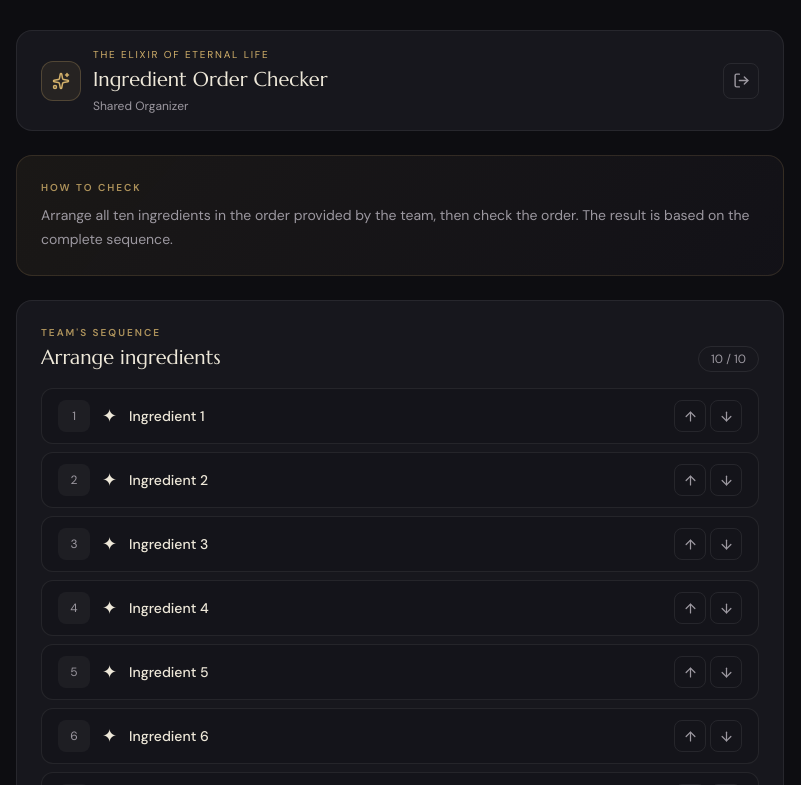
ingredient order checker › reorders with accessible controls and resets for the next check
The image size is (801, 785).
What coordinates should you click on to do the following:
click the button named "Move Ingredient 2 up"
I would click on:
 (690, 480)
Its box is [674, 464, 706, 496].
(page scrolled)
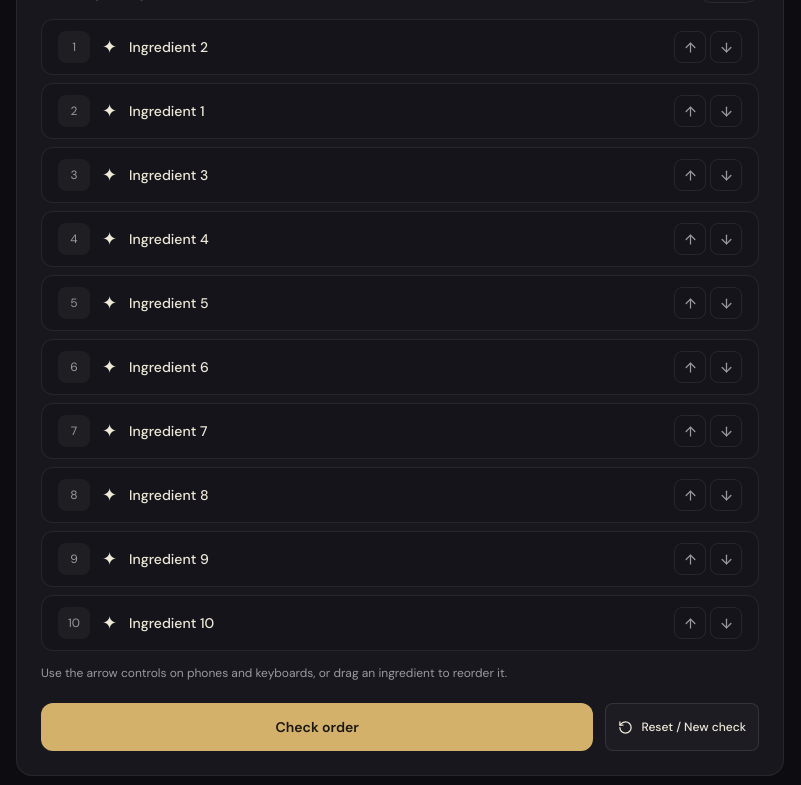
Expected: the list item "1 ✦ Ingredient 2" is shown, [41, 19, 759, 75]
What coordinates should you click on to do the following:
click the button "Check order"
I would click on:
 (317, 727)
Its box is [41, 703, 594, 751].
(page scrolled)
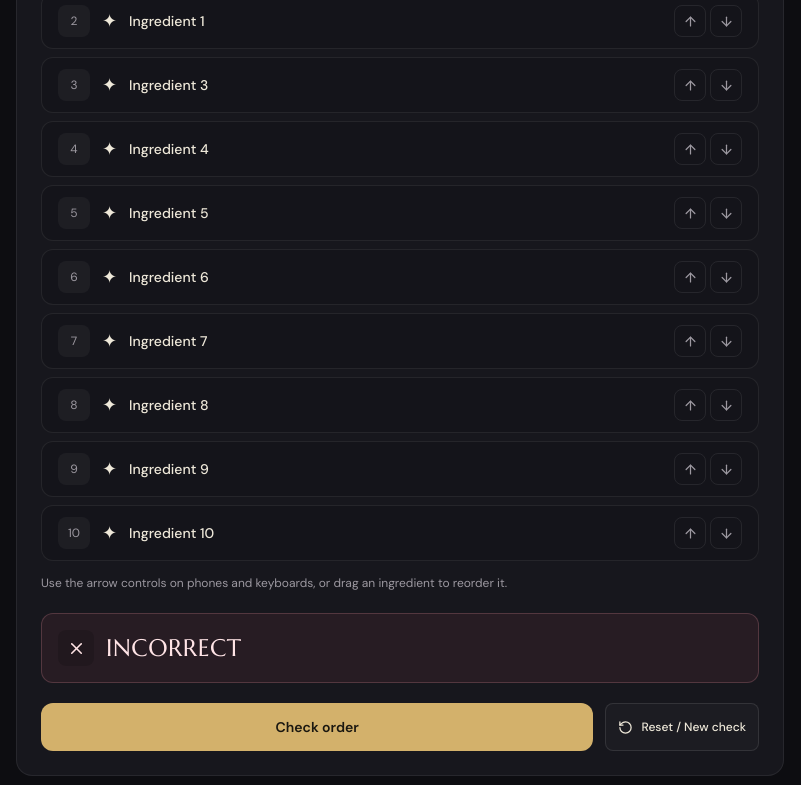
Expected: the message "INCORRECT" is shown, [41, 613, 759, 683]
What coordinates should you click on to do the following:
click the button "Reset / New check"
I would click on:
 (682, 727)
Its box is [606, 703, 759, 751].
(page scrolled)
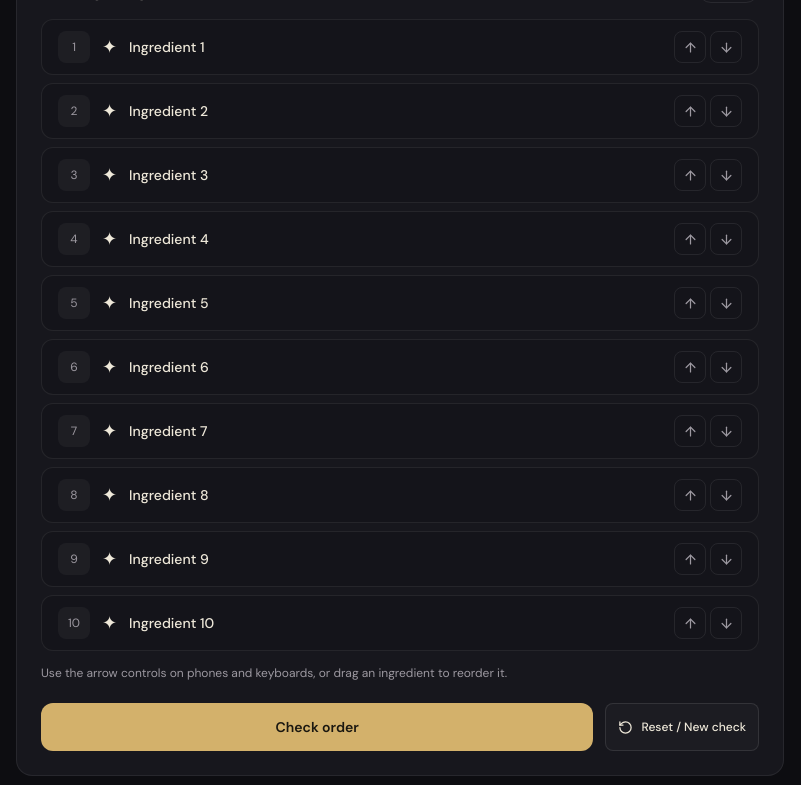
Expected: the list item "1 ✦ Ingredient 1" is shown, [41, 19, 759, 75]
Expected: the message "INCORRECT" is gone
